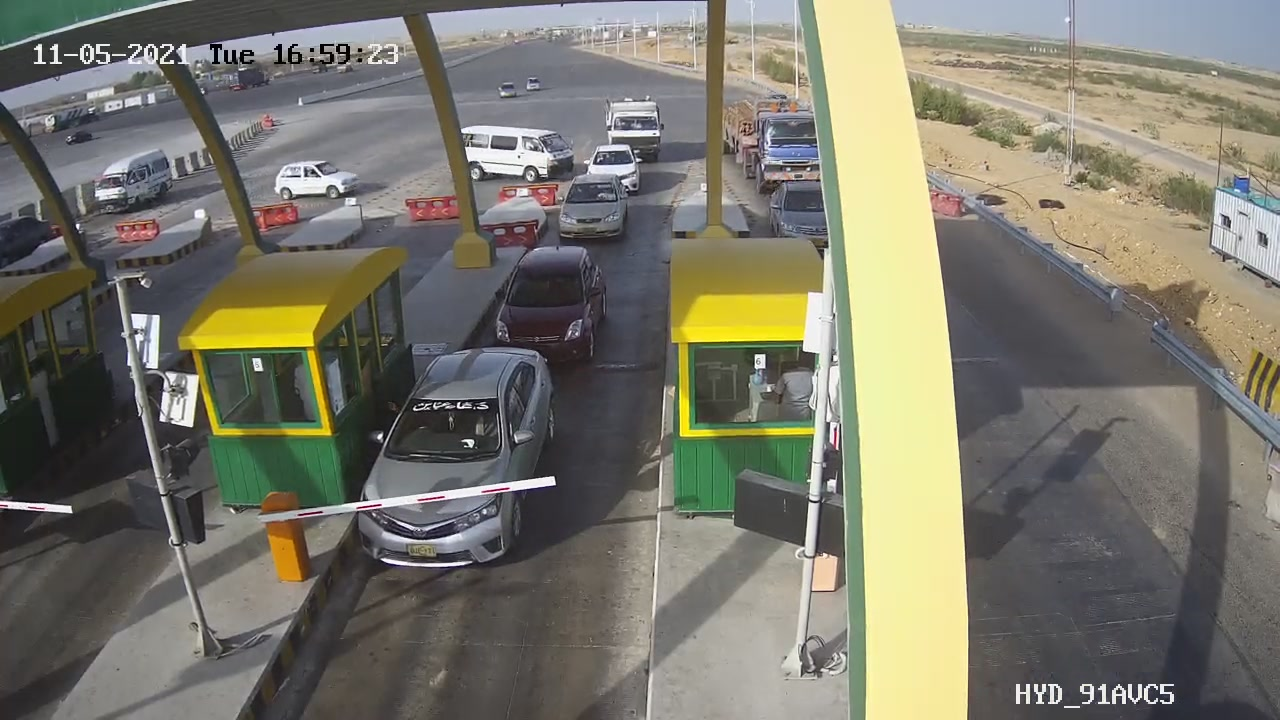F1: (342, 337, 576, 585), (478, 231, 628, 384), (545, 166, 650, 259)
